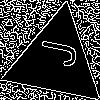J: (30, 35, 79, 69)
